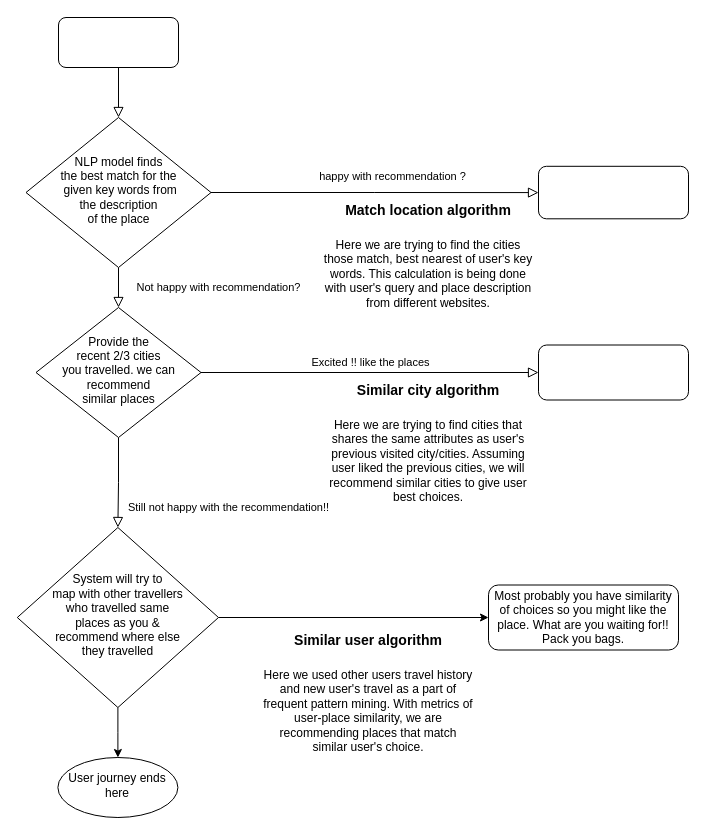
This 707x835 diagram has some shape labels left out. The centre of each missing label's shape, as x and y in pixels:
Checkout the nearby sightseeing and plan your holidays.: the point at 613,372
Checkout the places nearby as sights & plan your travel.: the point at 613,192
User enters the nature of the destination: the point at 118,42
